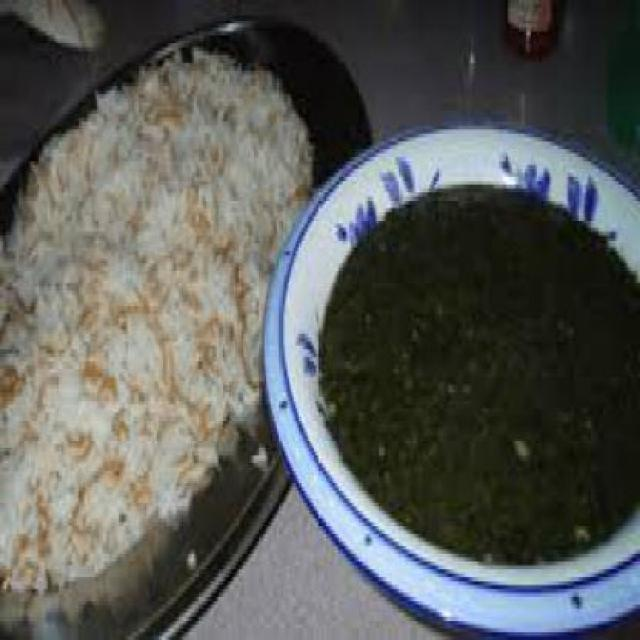fried rice: (5, 32, 314, 593)
